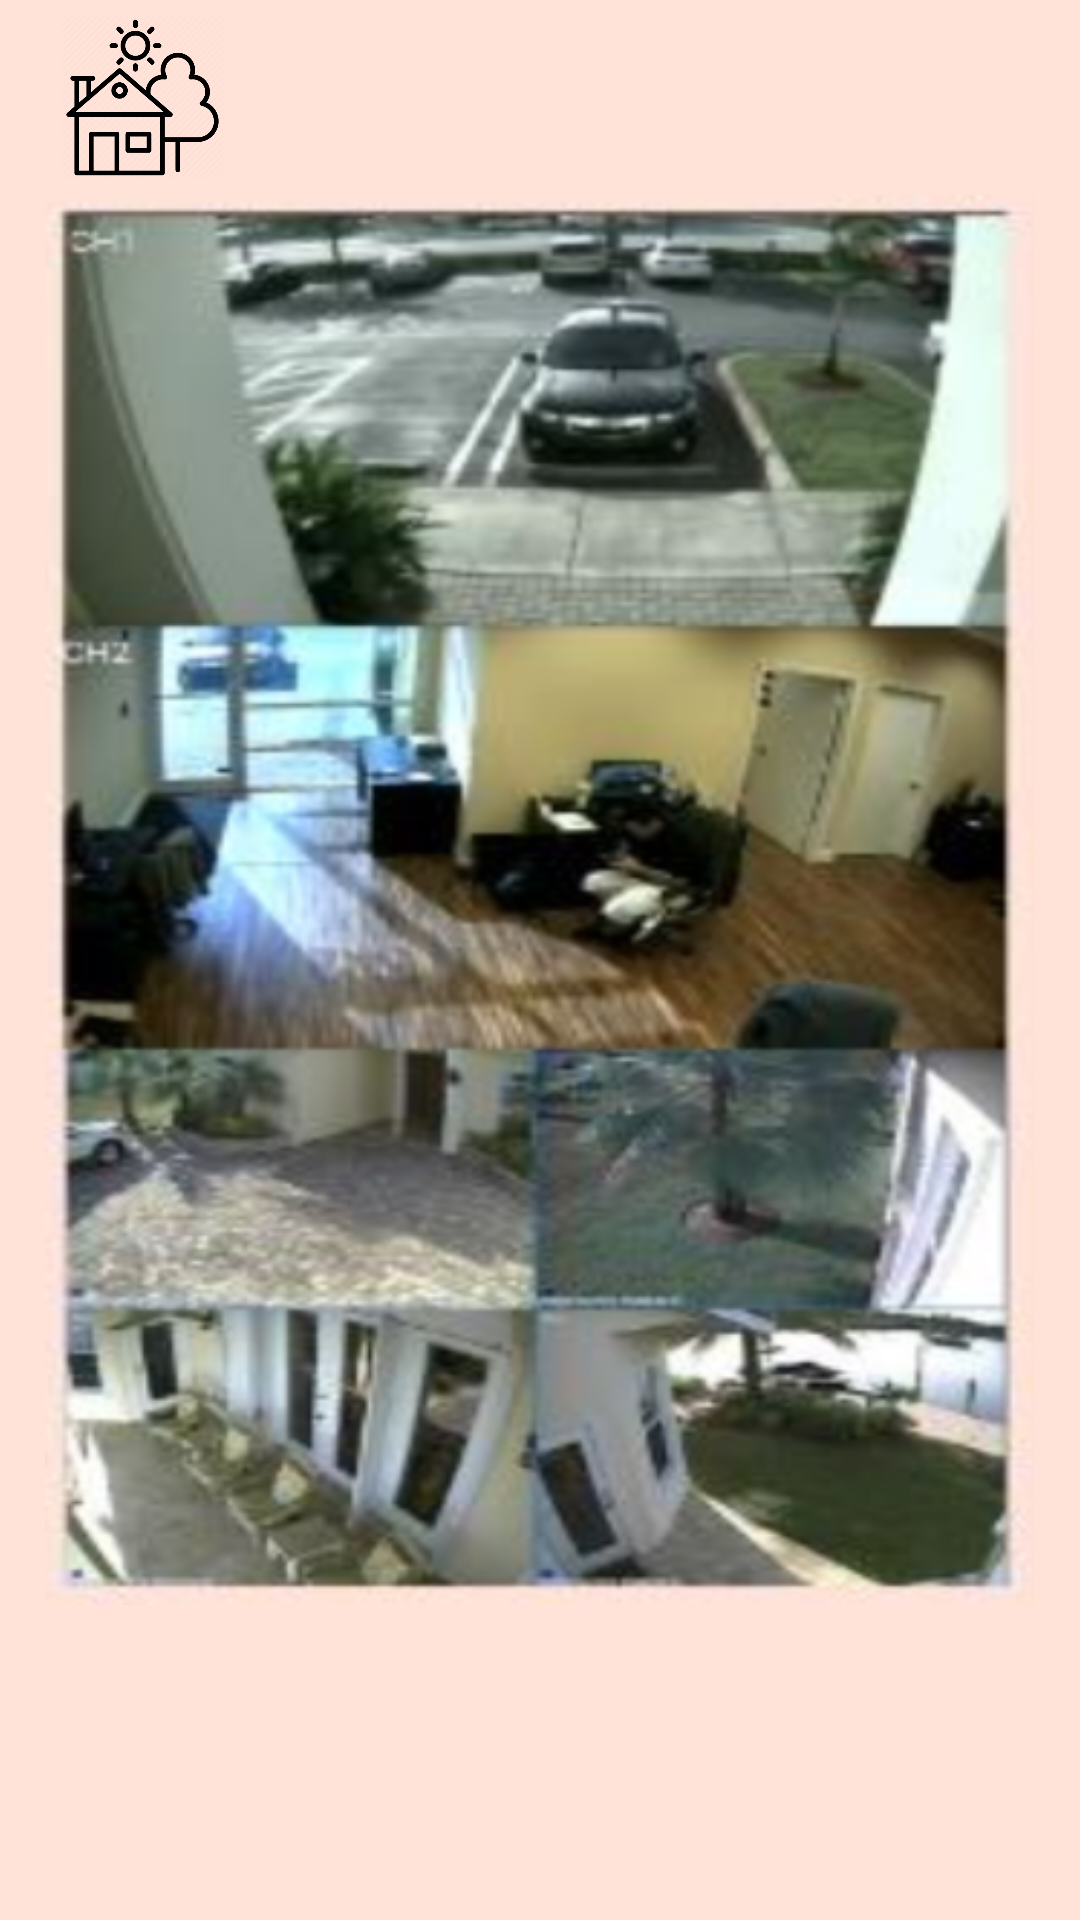

Named icons in this screenshot (1080w x 1920h) and their bounding boxes, BBox(x1, y1, x2, y2):
house: BBox(66, 19, 219, 176)
